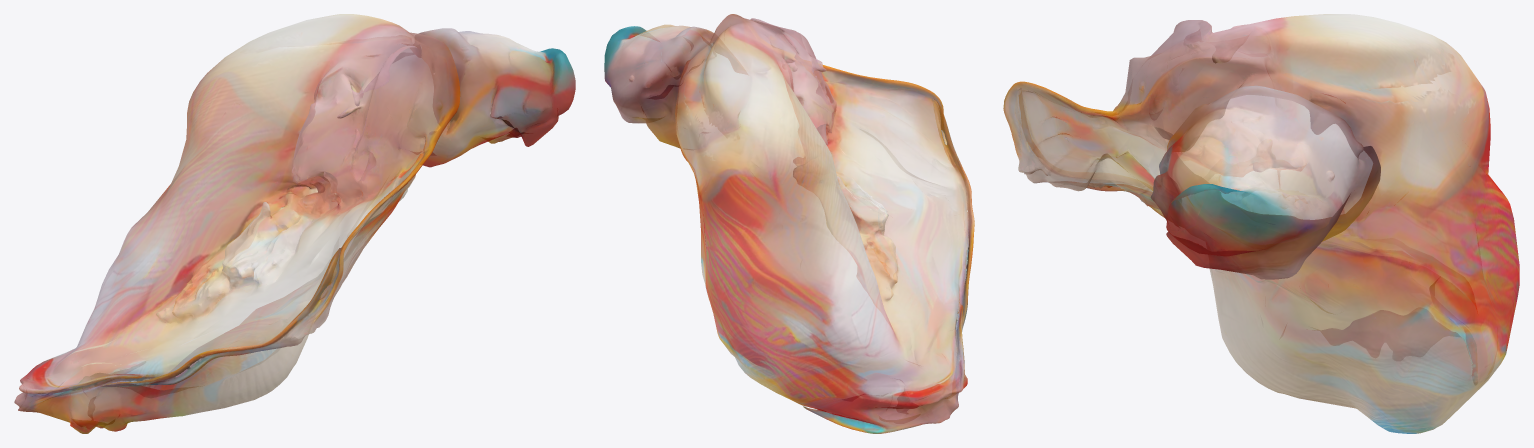
3 renders of one model, left to right at view 1: azimuth 30°, elevation 25°; view 2: azimuth 150°, elevation 25°; view 3: azimuth 270°, elevation 25°, orthographic. The views are drawn at different scales.
Parts seen in each view (by area): view 1: model; view 2: model; view 3: model.
Boxes of the visible parts, x1,y1,x2,y2 form: model: [14, 14, 575, 433]; model: [604, 14, 974, 433]; model: [1003, 14, 1519, 433].
Size of the model in its own units: 1.9 by 1.41 by 1.35.
Materials: 1 (1 with a texture image).
